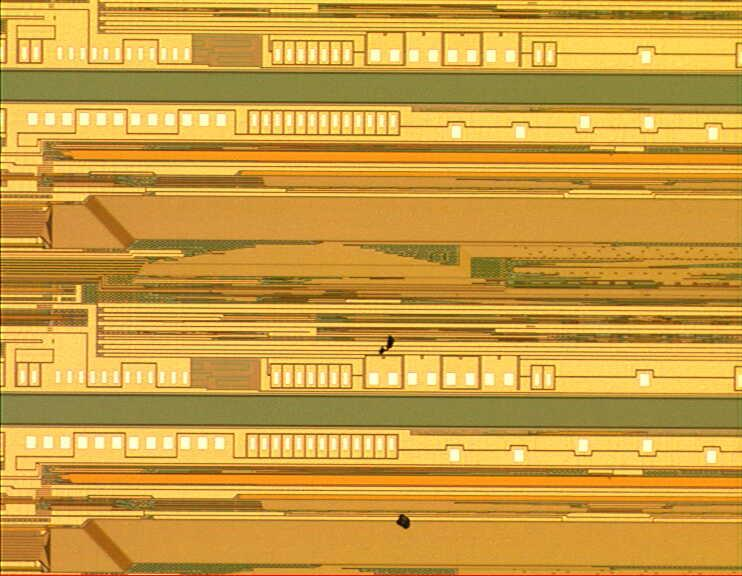PO CONTAMINATION: (374, 328, 420, 538)
